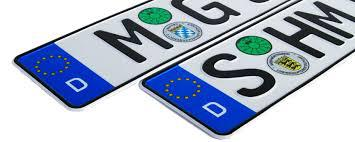G: (166, 0, 245, 31)
H: (260, 14, 347, 60)
M: (91, 16, 177, 65), (292, 0, 355, 41)
S: (195, 47, 284, 103)
